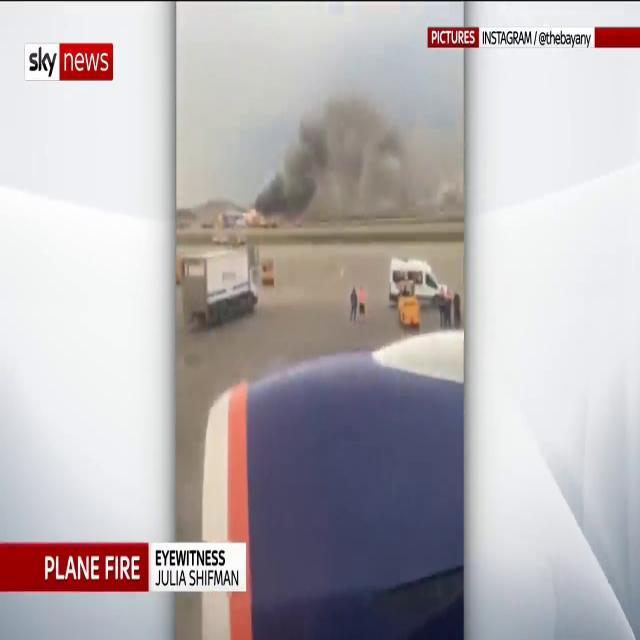Smoke: (252, 67, 456, 225)
